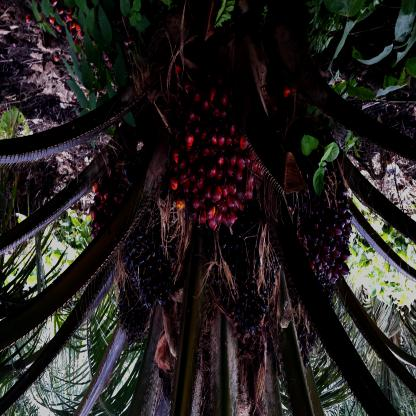1: (166, 63, 259, 235), (284, 129, 354, 285), (84, 173, 126, 243)
palm-oil: (218, 229, 275, 336), (127, 206, 183, 308), (283, 285, 320, 368), (115, 286, 148, 349)
